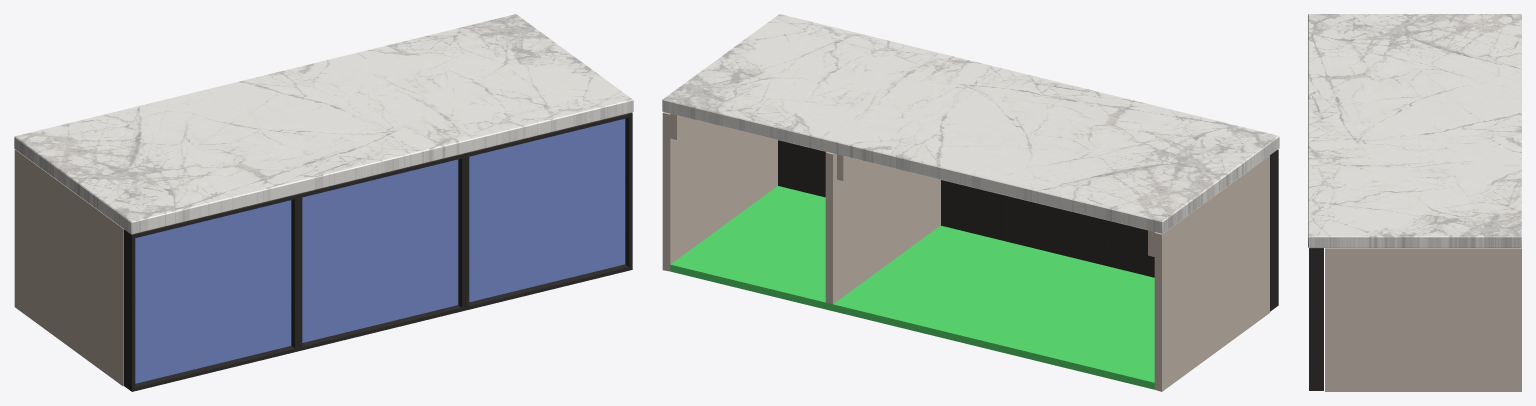
3 renders of one model, left to right at view 1: azimuth 30°, elevation 25°; view 2: azimuth 150°, elevation 25°; view 3: azimuth 270°, elevation 25°, orthographic. The views are drawn at different scales.
Visible parts, largest first — view 1: AT03; view 2: AT03; view 3: AT03.
Boxes of the visible parts, x1,y1,x2,y2 form: AT03: [14, 14, 633, 391]; AT03: [662, 14, 1279, 391]; AT03: [1308, 14, 1521, 391].
Bounding box in the file's own units: 1.21 × 0.393 × 0.489.
Materials: 5 (4 with a texture image).
